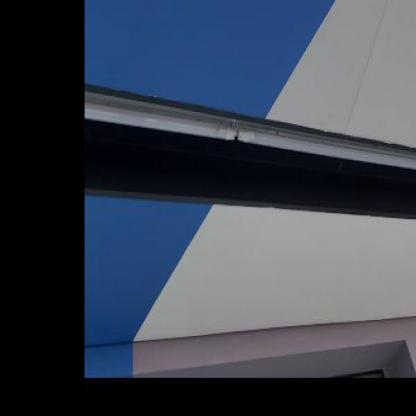light_off: (86, 50, 415, 202)
